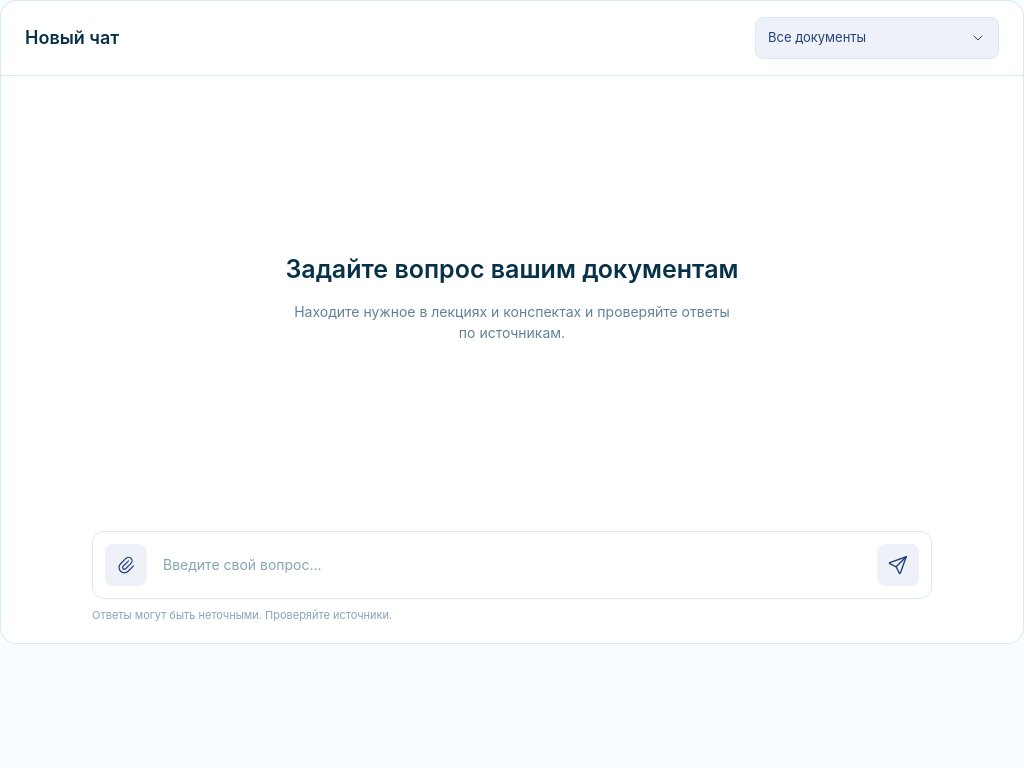
Test case: Chat › показывает предупреждение при частичном ответе (partial)
Type "Тестовый вопрос" into the text box with placeholder "Введите свой вопрос..." at (512, 564), box top-left (159, 548), bottom-right (865, 580)
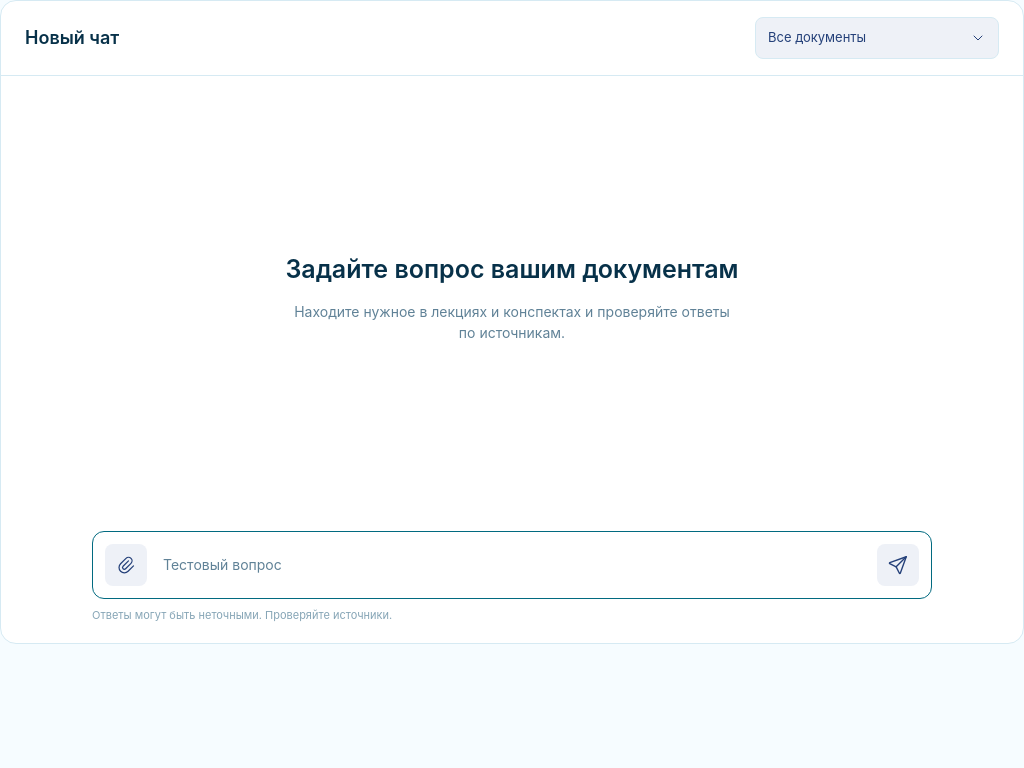
Click the button named "Отправить" at (898, 564), box top-left (877, 544), bottom-right (919, 586)
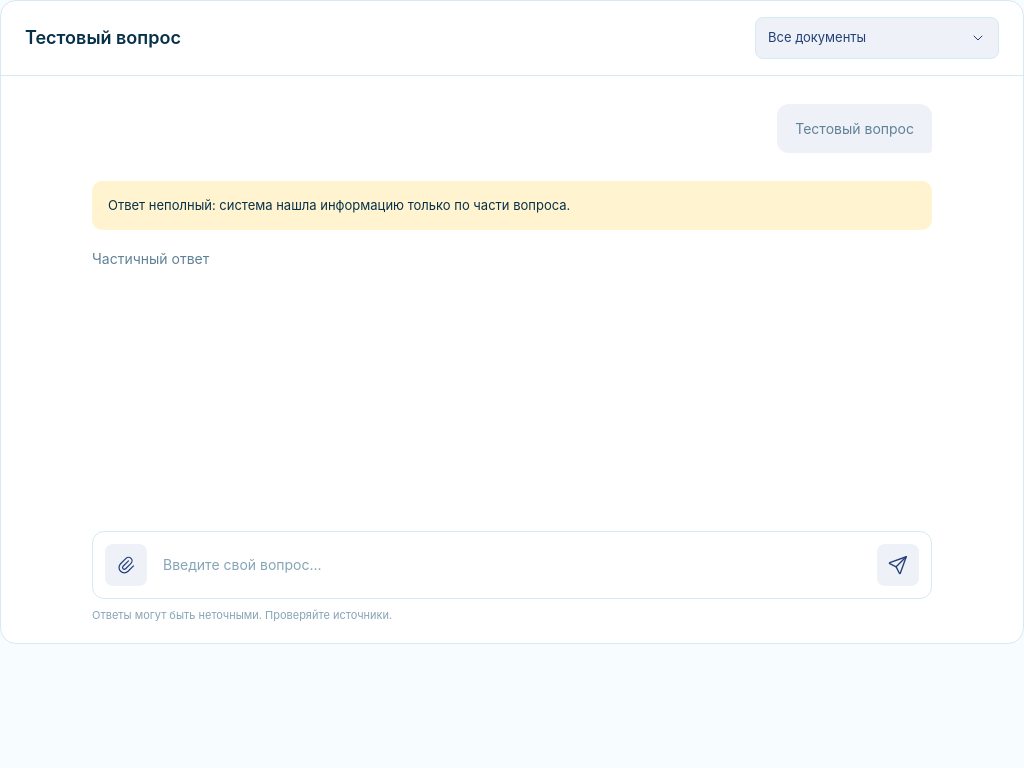
expect the text "Ответ неполный: система нашла информацию только по части вопроса." is shown: met, box top-left (92, 181), bottom-right (932, 230)
